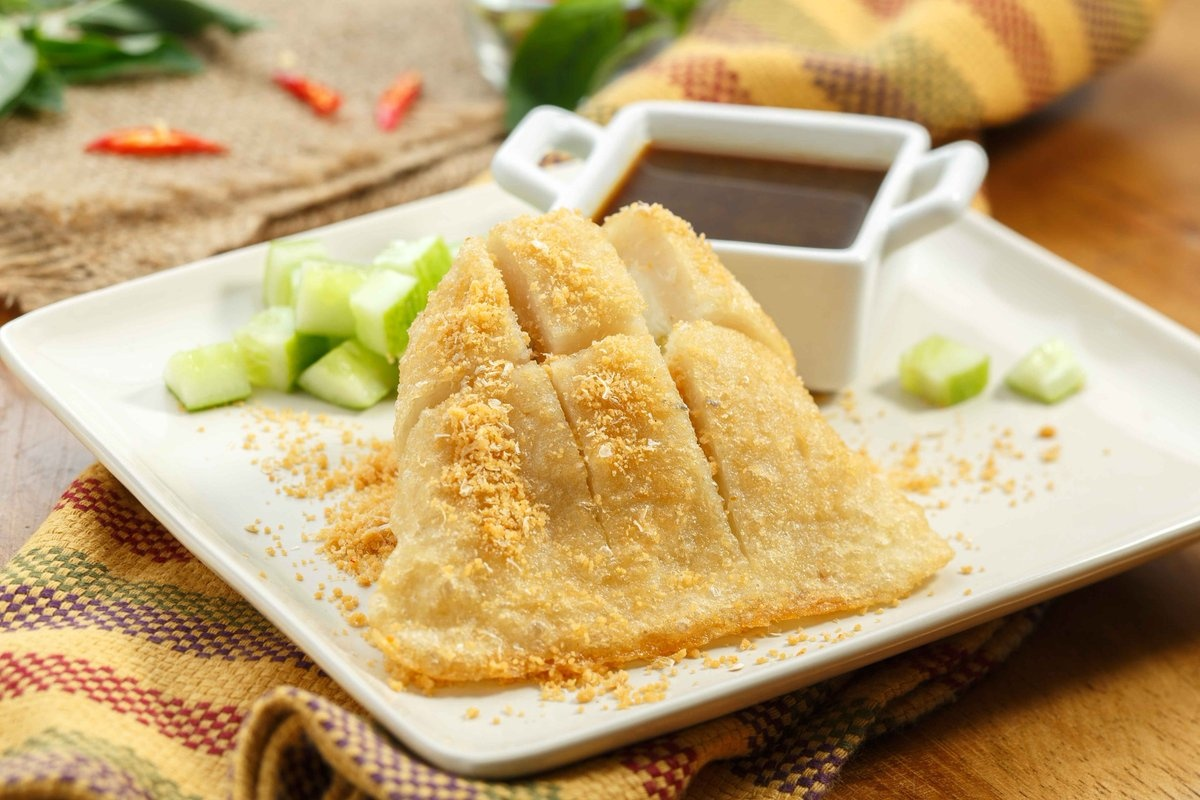pempek: (352, 205, 950, 671)
